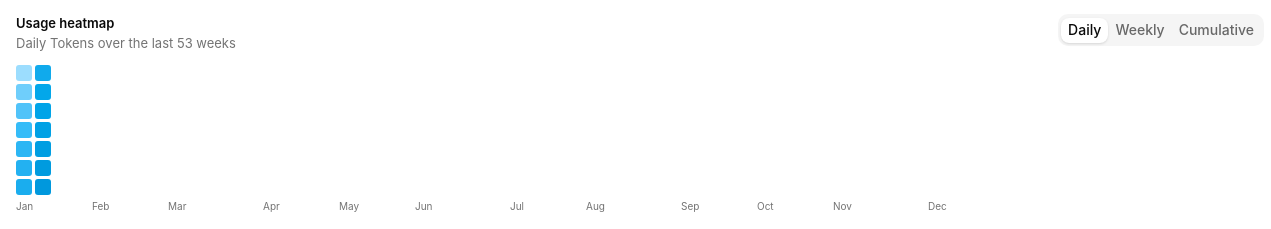
shows natural-week token sums as bars without counting future days
The image size is (1271, 229).
Click the tab "Weekly": (1140, 30) top-left (1108, 18), bottom-right (1172, 42)
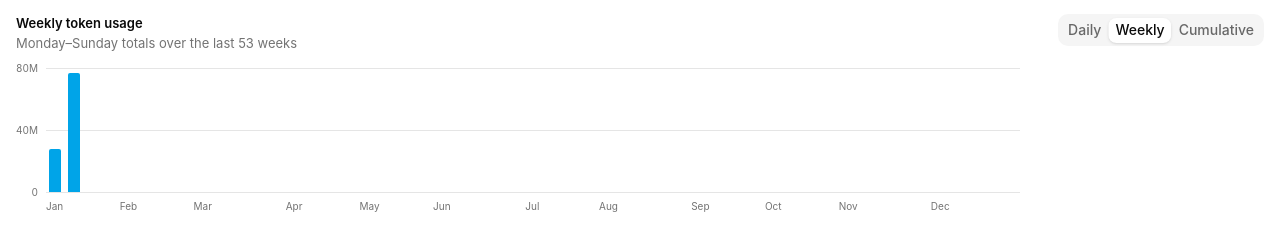
Expected: the button named "2026-01-05 – 2026-01-11: 28.00M Tokens" is shown, top-left (46, 65), bottom-right (64, 195)
Expected: the button named "2026-01-12 – 2026-01-18: 77.00M Tokens" is shown, top-left (64, 65), bottom-right (83, 195)
